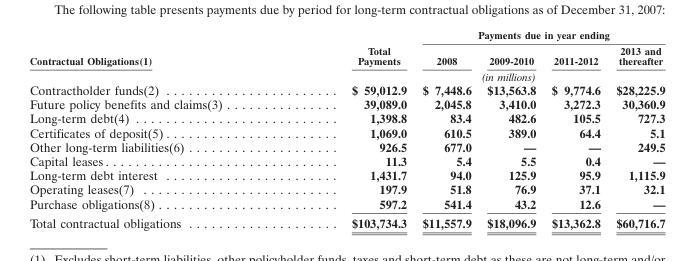table: (28, 28, 664, 230)
table column: (28, 28, 286, 230), (286, 28, 413, 230), (413, 28, 478, 230), (478, 28, 543, 230), (543, 28, 607, 230), (607, 28, 664, 230)
table column header: (28, 28, 664, 82)
table row: (28, 42, 664, 68), (28, 212, 664, 230), (28, 196, 664, 212), (28, 110, 664, 125), (28, 181, 664, 196), (28, 28, 664, 42), (28, 68, 664, 82), (28, 82, 664, 96), (28, 96, 664, 110), (28, 125, 664, 139), (28, 139, 664, 153), (28, 153, 664, 167), (28, 167, 664, 181)
table spanning cell: (28, 28, 286, 82), (286, 68, 664, 82), (286, 28, 413, 68), (413, 28, 664, 42)
